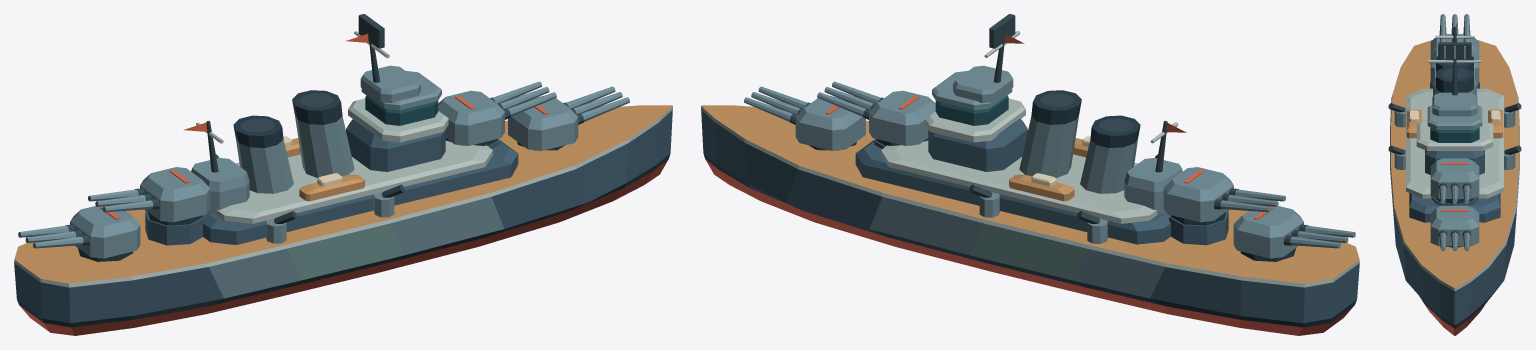
Rendered from hms_belfast.glb.
3 views of the same model, side by side, from view 1: azimuth 30°, elevation 25°; view 2: azimuth 150°, elevation 25°; view 3: azimuth 270°, elevation 25° (orthographic). The views are drawn at different scales.
Parts seen in each view (by area): view 1: hms_belfast; view 2: hms_belfast; view 3: hms_belfast.
Boxes of the visible parts, <box> form: hms_belfast: <box>14,14,672,335</box>; hms_belfast: <box>701,14,1359,335</box>; hms_belfast: <box>1388,14,1521,335</box>.
Bounding box in the file's own units: 2.88 × 0.9865 × 0.6375.
